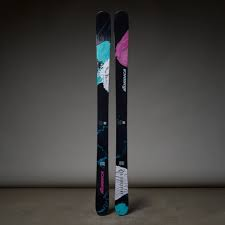skis: (93, 10, 132, 216)
